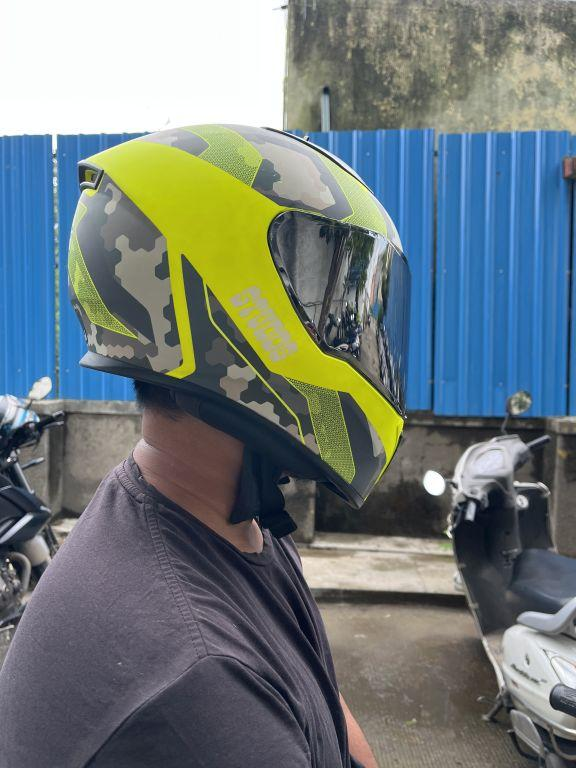helmet: (59, 109, 418, 535)
